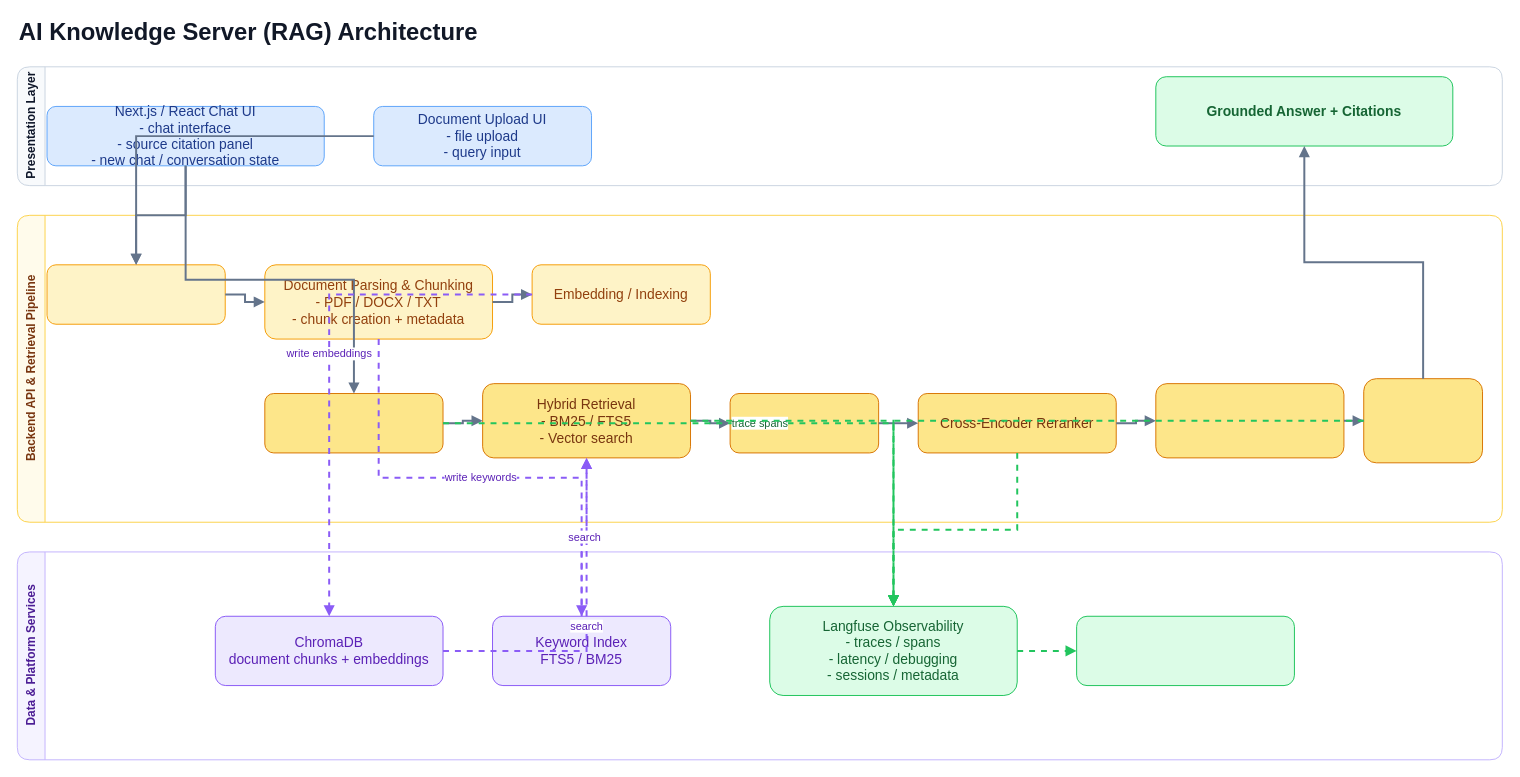
This 1520x777 diagram has some shape labels left out. The shapes that lost their labels are listed below. From the top down, each one's centre as x and y in pixels, then its label:
At [135,294]: "FastAPI Backend REST API / orchestration".
At [353,423]: "Query Rewrite".
At [804,423]: "RRF Fusion".
At [1249,420]: "Context Builder - top-k passages - citation metadata".
At [1423,420]: "LLM Answer Generation - grounded answer - abstain when evidence is insufficient".
At [1185,650]: "Evaluation / Benchmarking - bad case analysis - held-out test set".
